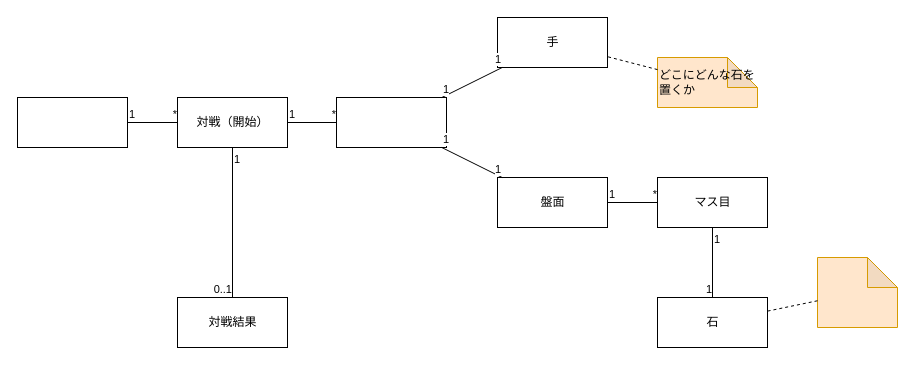
Image size: 915x365. Some labels were removed from this diagram. The shapes that lost their labels are listed below. From the top down, each one's centre as x and y in pixels, then its label:
point (72, 122): プレイヤー
point (391, 122): ターン
point (857, 292): 石の種類 ・空 ・黒 ・白
